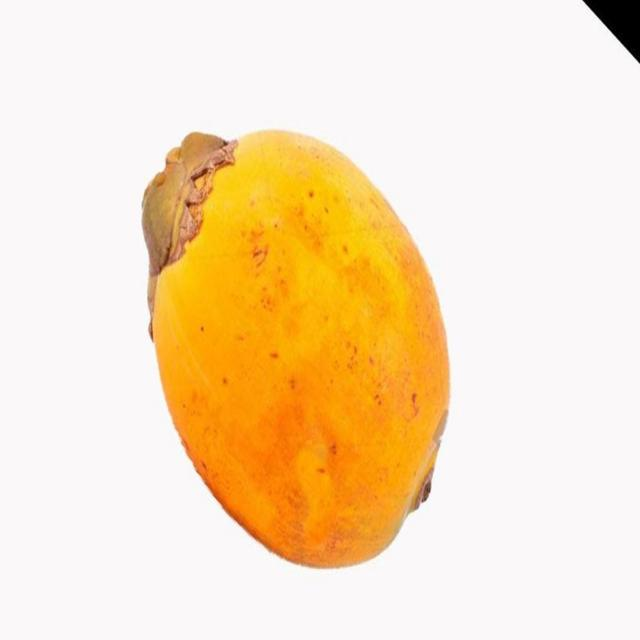good: (141, 129, 452, 572)
